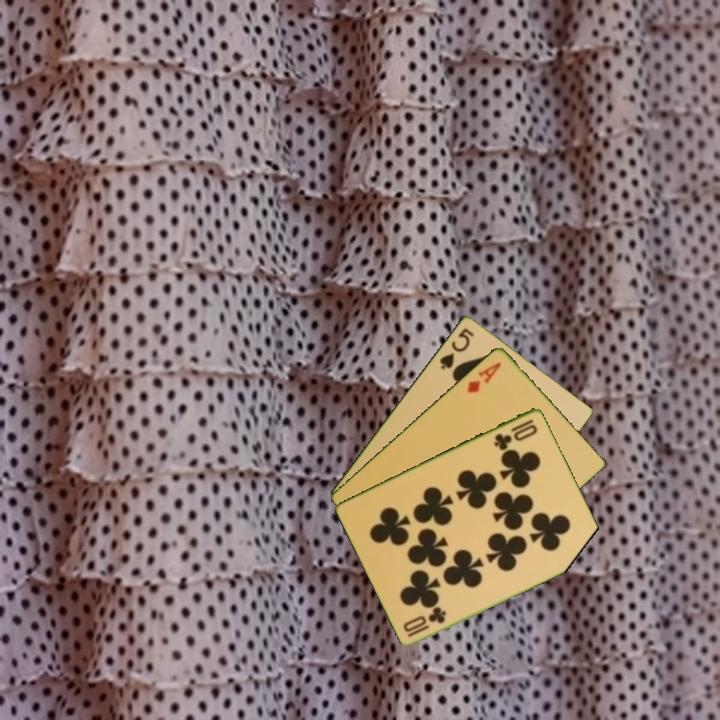10c: (491, 415, 541, 452), (404, 604, 450, 640)
5s: (436, 324, 477, 372)
Ad: (463, 358, 504, 396)
